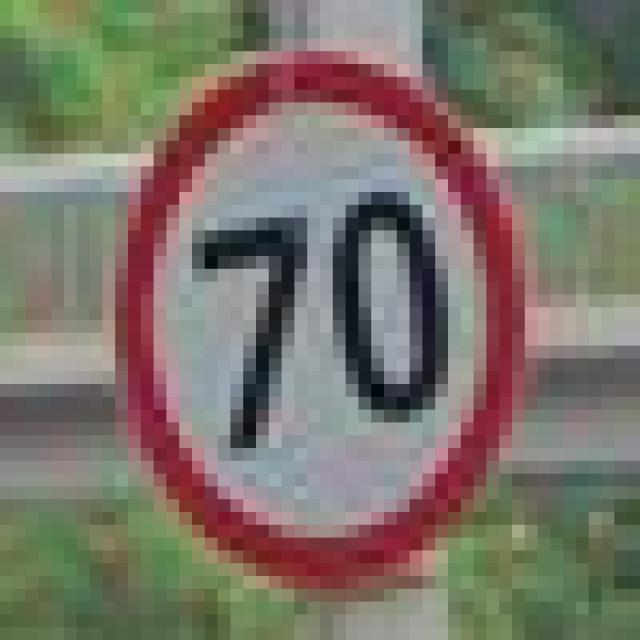SPEED_LIMIT_70: (102, 51, 512, 576)
